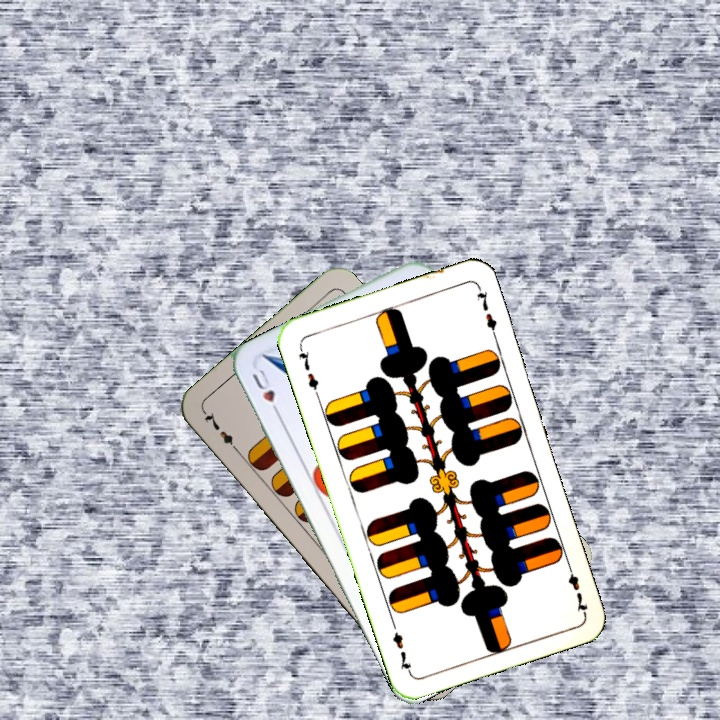E7: (199, 408, 243, 456), (294, 341, 322, 399), (563, 558, 591, 616)
HU: (248, 365, 284, 420)
